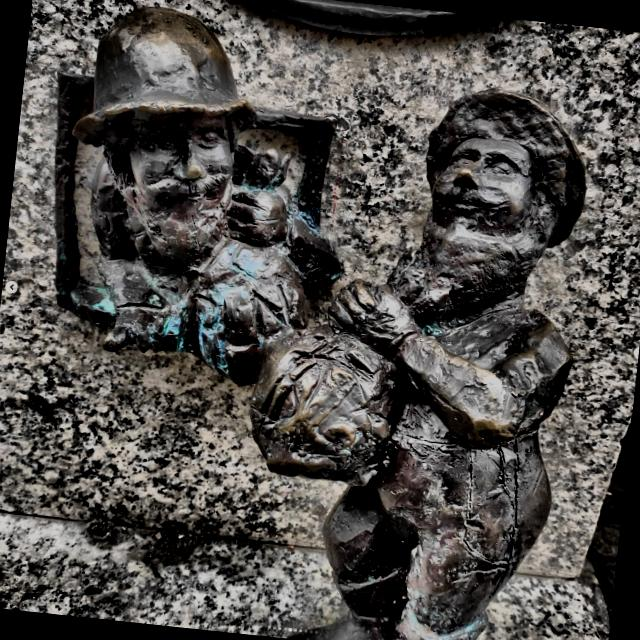Kantorki: (55, 6, 585, 640)
